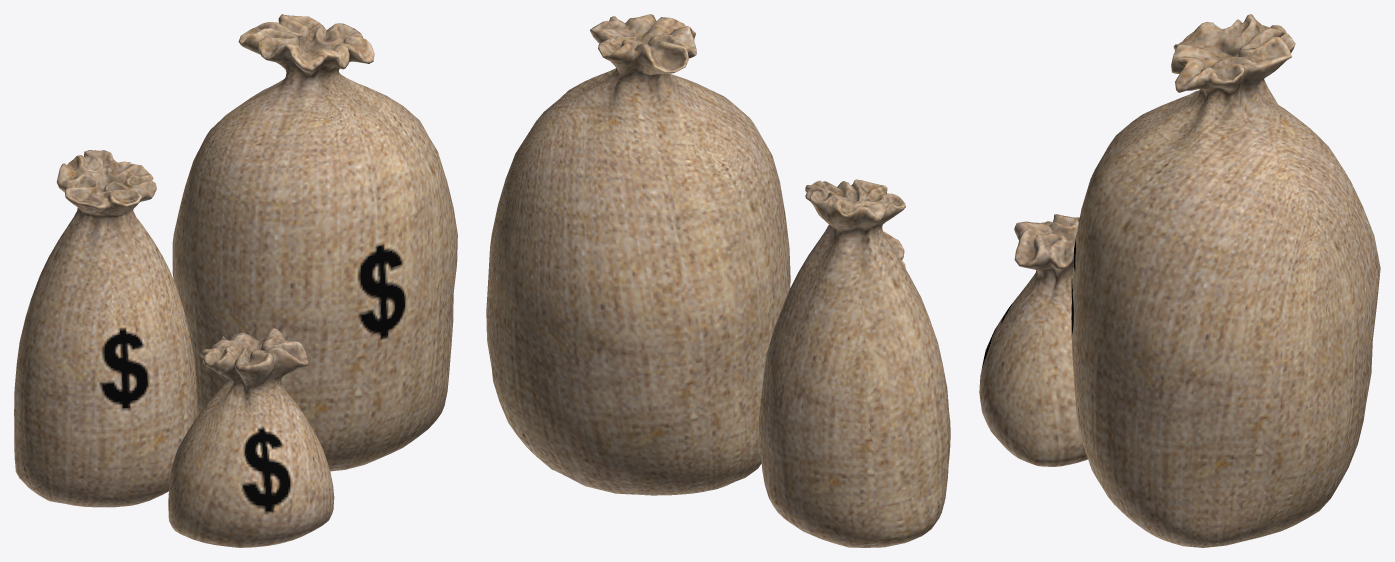
File: moneyBags.glb
3 renders of one model, left to right at view 1: azimuth 30°, elevation 25°; view 2: azimuth 150°, elevation 25°; view 3: azimuth 270°, elevation 25°, orthographic. The views are drawn at different scales.
Parts seen in each view (by area): view 1: Money_Sack_A_big, Money_Sack_A_medium, Money_Sack_A_small; view 2: Money_Sack_A_big, Money_Sack_A_medium; view 3: Money_Sack_A_big, Money_Sack_A_small, Money_Sack_A_medium.
Part boxes in pixels (left/top/right/bottom): Money_Sack_A_big: left=172, top=14, right=457, bottom=471; Money_Sack_A_medium: left=14, top=150, right=197, bottom=507; Money_Sack_A_small: left=168, top=328, right=334, bottom=547; Money_Sack_A_big: left=486, top=14, right=790, bottom=495; Money_Sack_A_medium: left=759, top=179, right=950, bottom=547; Money_Sack_A_big: left=1071, top=14, right=1380, bottom=547; Money_Sack_A_small: left=979, top=214, right=1087, bottom=466; Money_Sack_A_medium: left=1223, top=25, right=1295, bottom=104.
Size of the model in its own units: 0.8268 by 0.8132 by 0.6185.
Materials: 1 (1 with a texture image).
